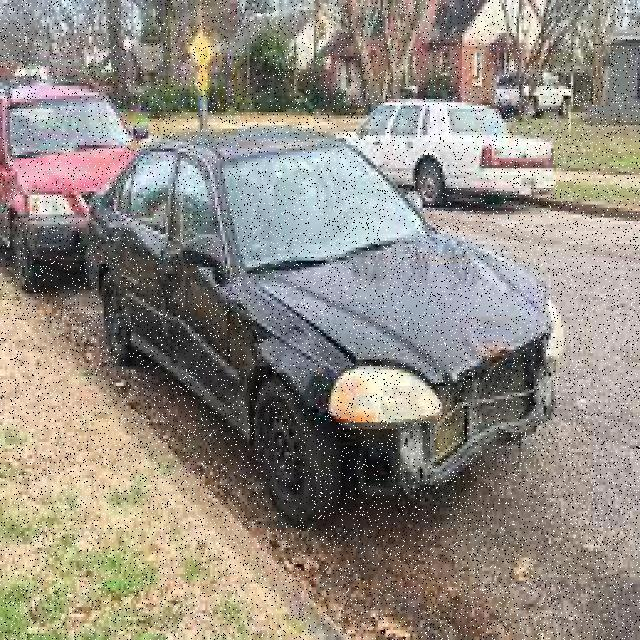fender: (106, 214, 168, 350), (168, 254, 232, 383)
hood: (356, 370, 596, 484)
